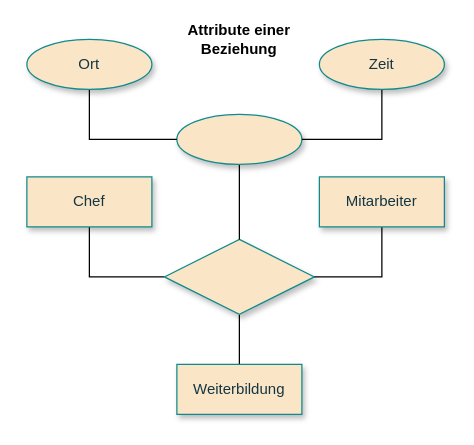
Image size: 474x445. Some labels were removed from this diagram. Here are the shapes that lost their labels. From the top down, the centre of each, then its label:
(x=240, y=140): Termin
(x=240, y=278): besuchen
